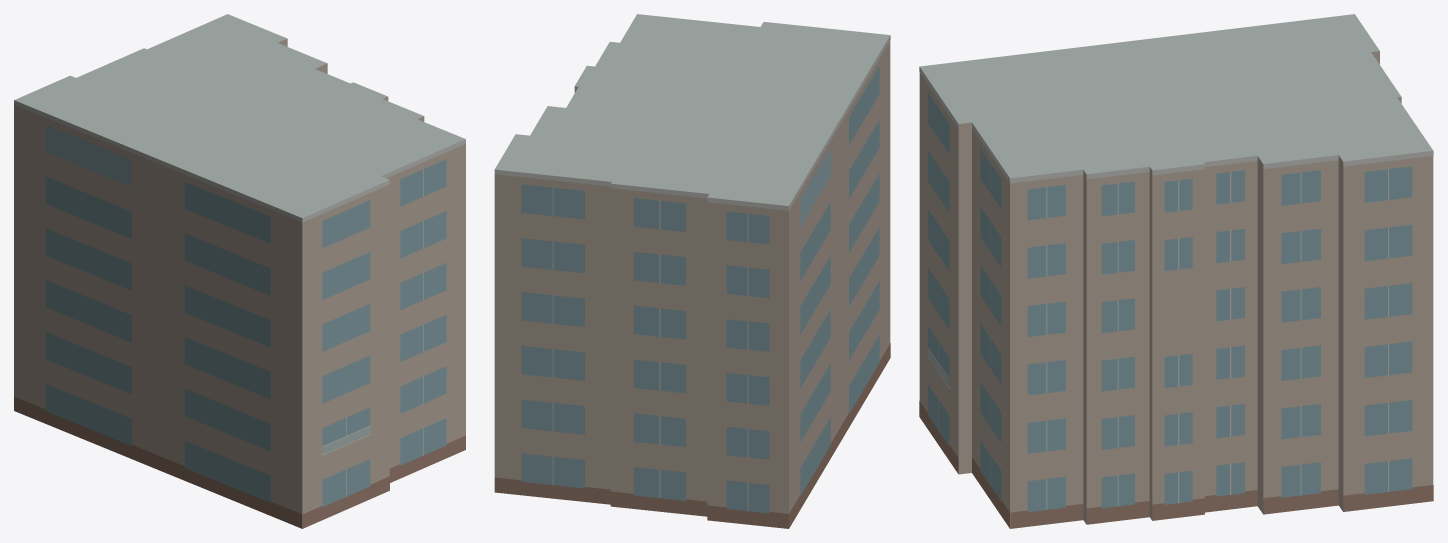
The model's file is survey-upis-32623727.glb.
3 views of the same model, side by side, from view 1: azimuth 30°, elevation 25°; view 2: azimuth 150°, elevation 25°; view 3: azimuth 270°, elevation 25° (orthographic). The views are drawn at different scales.
Visible parts, largest first — view 1: survey-upis-32623727.tmp; view 2: survey-upis-32623727.tmp; view 3: survey-upis-32623727.tmp.
Boxes of the visible parts, x1,y1,x2,y2 form: survey-upis-32623727.tmp: [14, 14, 465, 528]; survey-upis-32623727.tmp: [494, 14, 890, 528]; survey-upis-32623727.tmp: [919, 14, 1433, 528].
Bounding box in the file's own units: 16.93 × 16.8 × 22.35.
